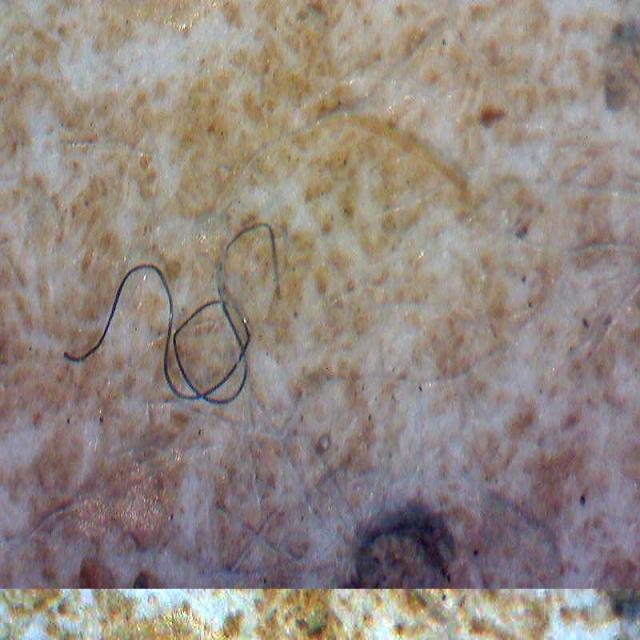microplastic: (63, 263, 201, 400), (173, 299, 225, 397), (217, 222, 282, 300), (203, 301, 251, 397), (202, 354, 247, 405), (221, 303, 244, 350)
